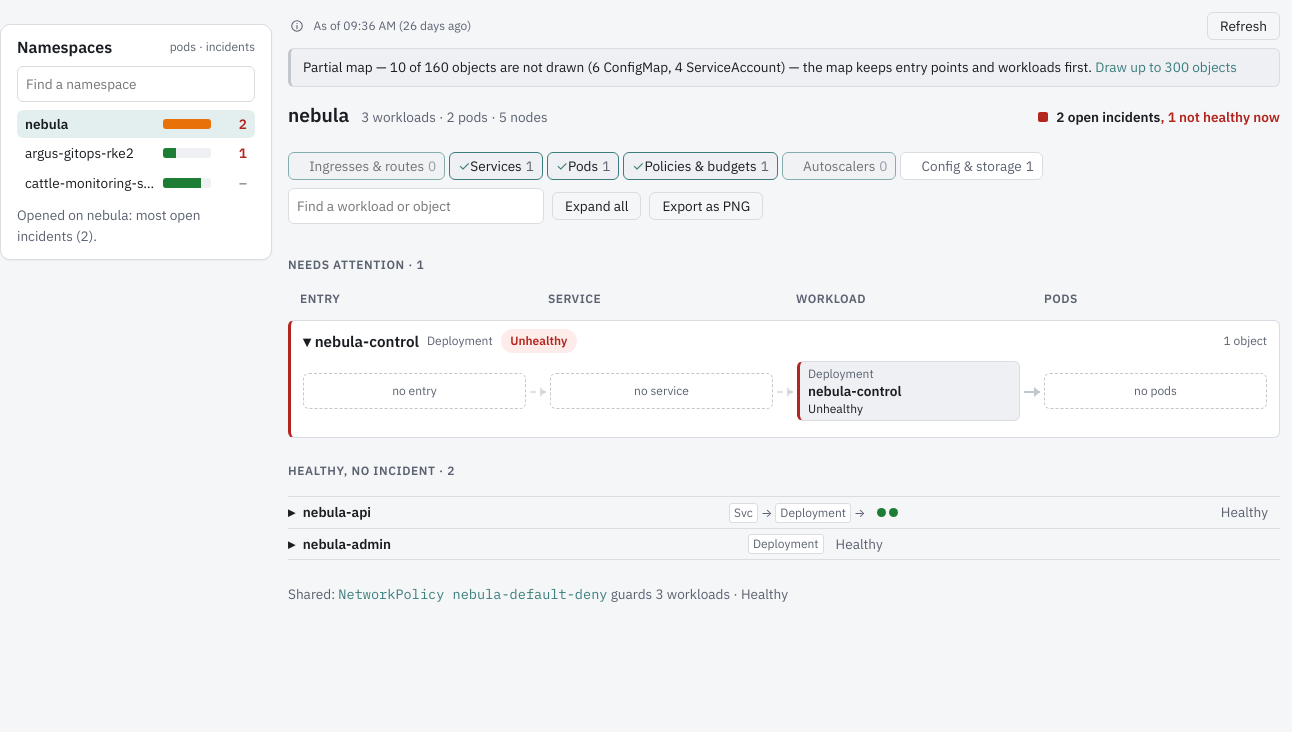
Test: Map tab › opens on the namespace with the most open incidents, as a card per workload in fixed lanes
The width and height of the screenshot is (1292, 732).
Expected: the text "Opened on nebula: most open incidents (2)." is shown, [17,206,200,245]
Click the button "▸ nebula-api" at (330, 513), box [288,502,371,523]
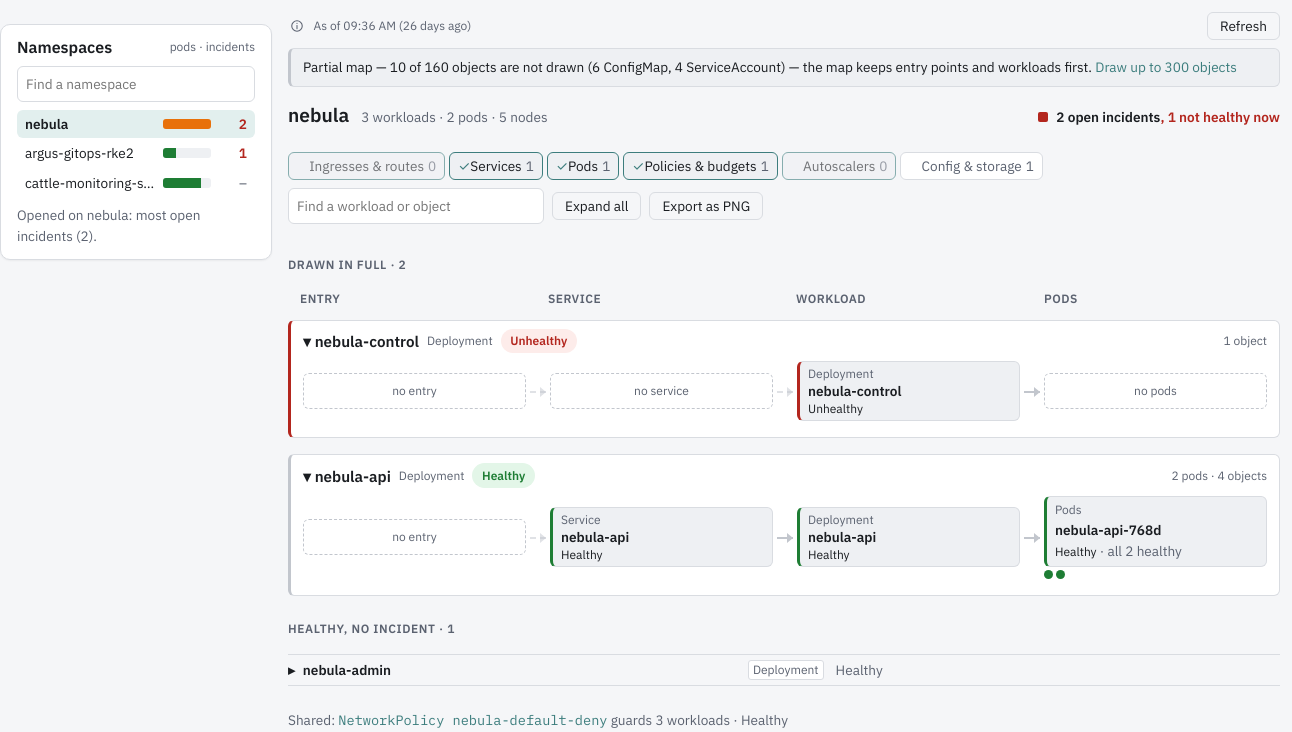
Result: the element with class "nsmap-lane" shows "nebula-api" at [550,507,773,567]
Result: the element with class "nsmap-lane" shows "Healthy" at [550,507,773,567]
Result: the element with class "nsmap-lane" shows "all 2 healthy" at [1108,542,1182,560]
Click the button "Config & storage 1" at (972, 166), box [900,152,1043,180]
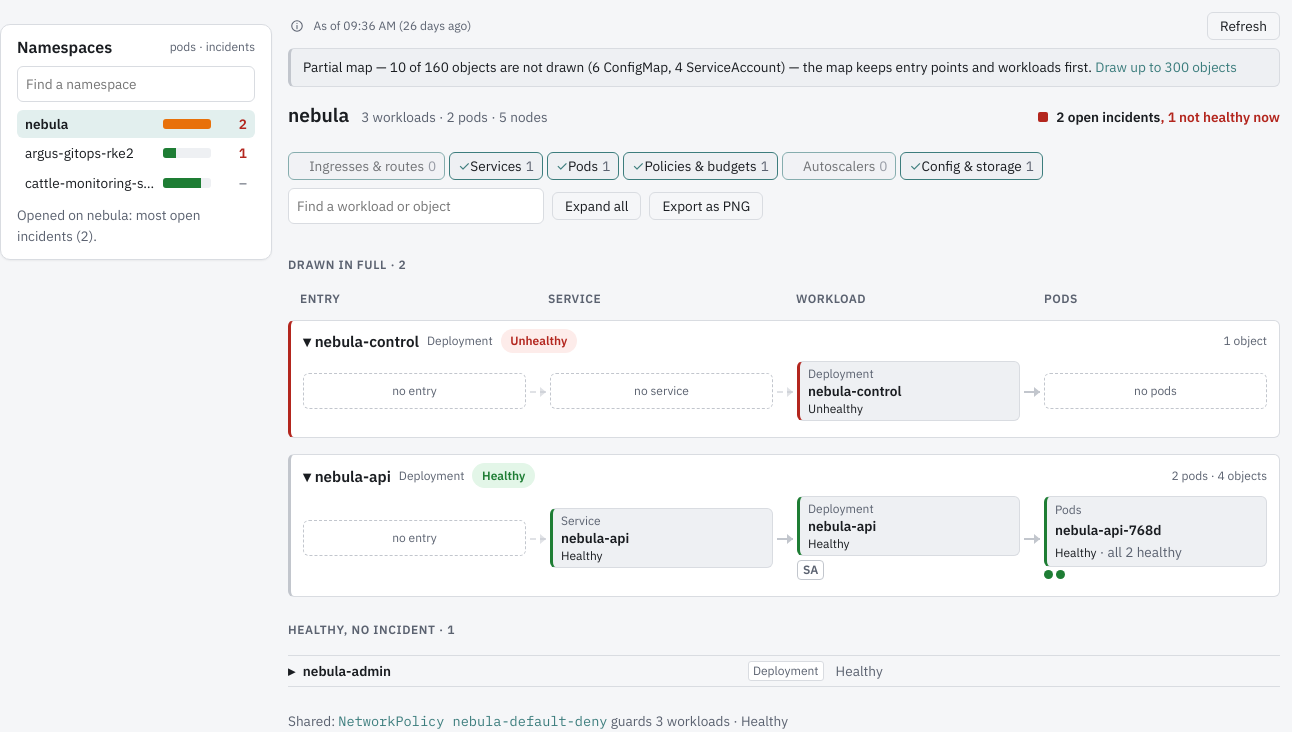
Expected: the button "Autoscalers 0" is disabled, [782,152,896,180]
Result: the button titled "configures · ServiceAccount" is shown at [797,560,824,580]
